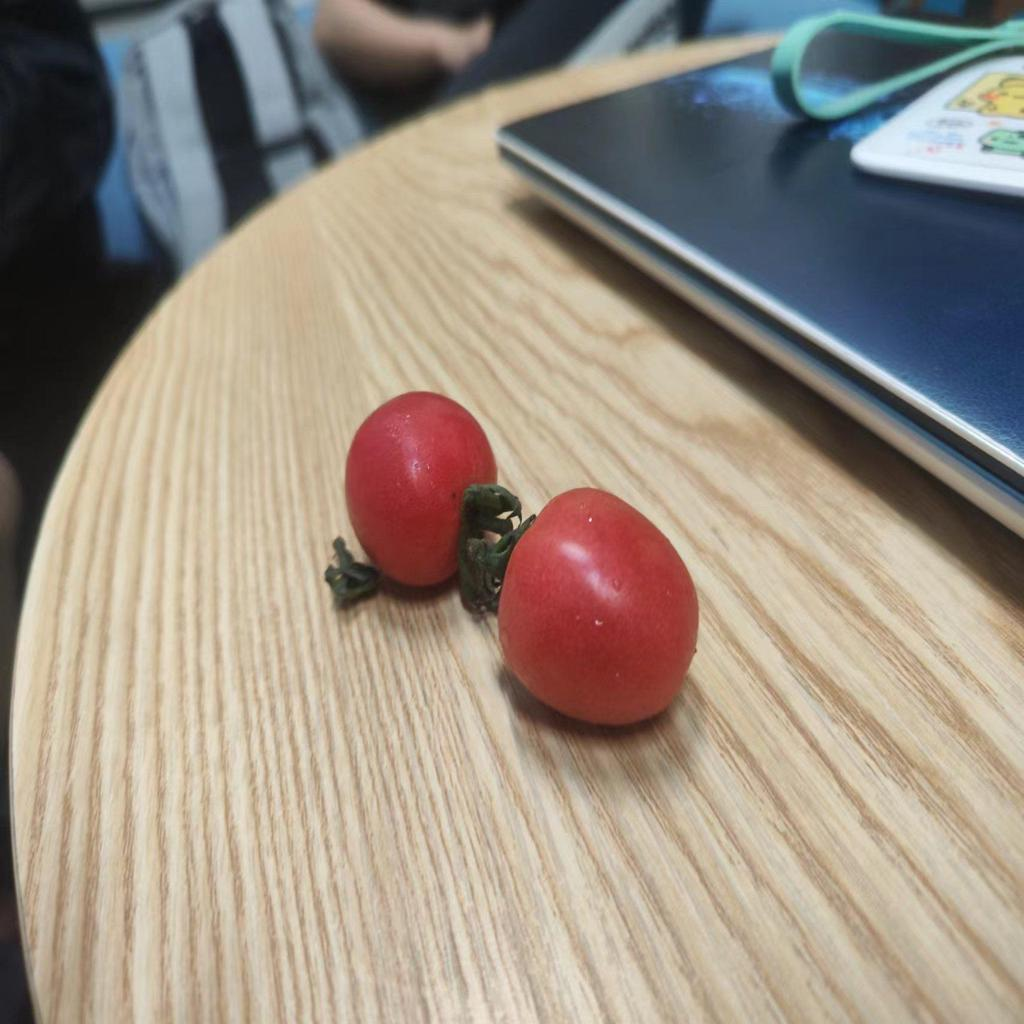tomato: (502, 498, 710, 719), (340, 394, 502, 587)
